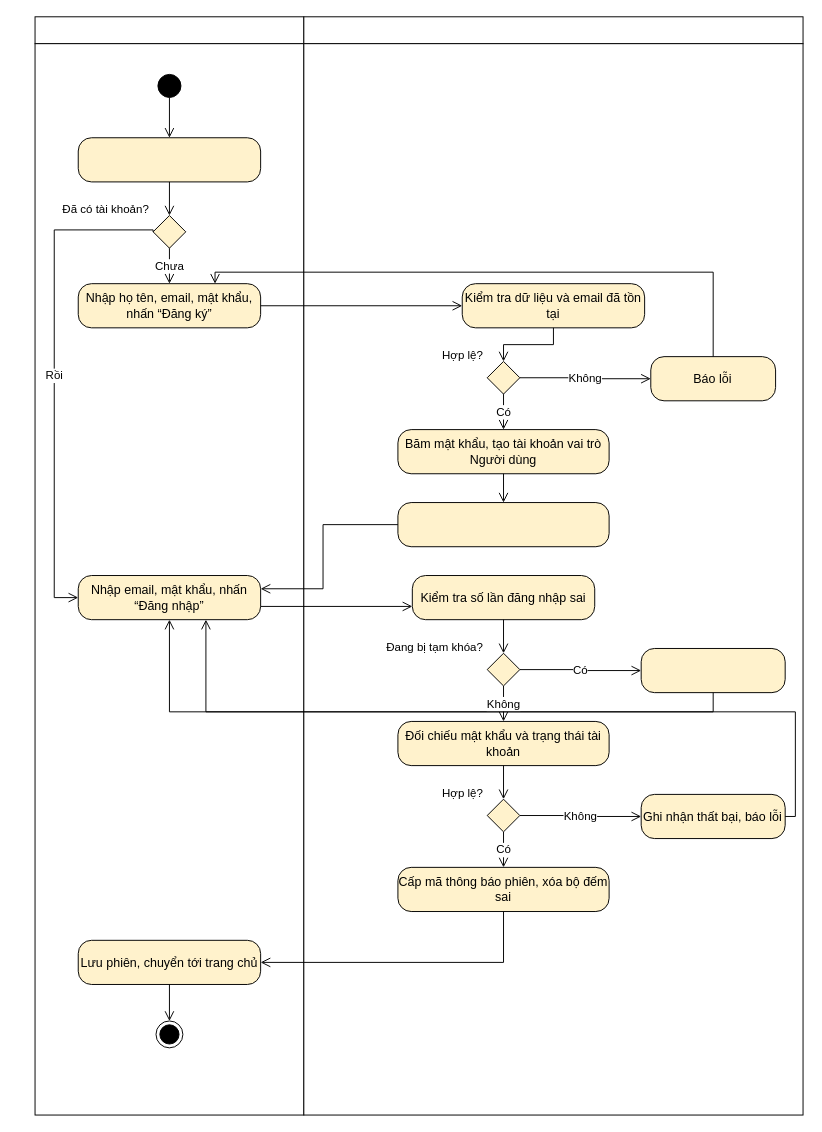
This 822x1132 diagram has some shape labels left out. Each missing label, with the box of its shape:
Báo lỗi kèm thời gian chờ: (640, 648, 785, 693)
Hệ thống: (303, 16, 803, 44)
Mở trang xác thực: (77, 137, 261, 182)
Người dùng: (34, 16, 304, 44)
Thông báo thành công, chuyển trang đăng nhập: (397, 502, 609, 547)
